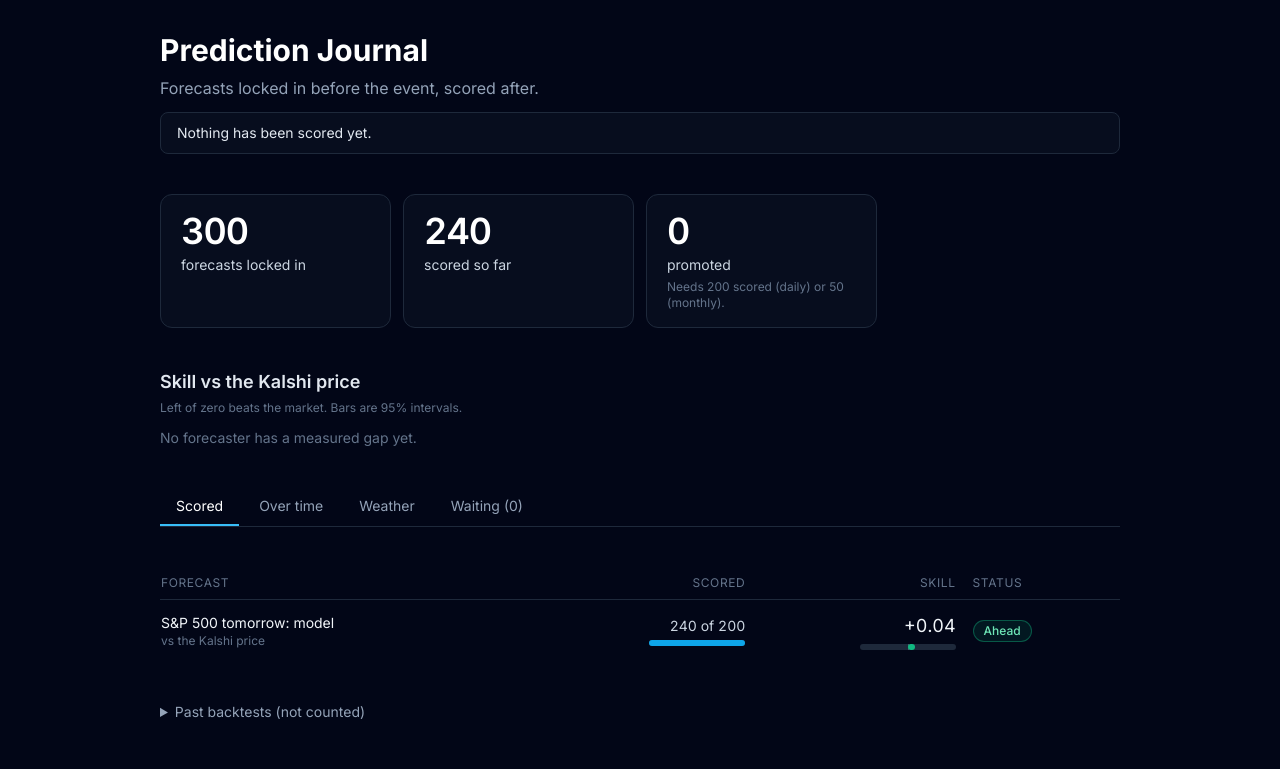
Test: calibration shows its reference points › draws the reliability curve with a 50% baseline marker
The width and height of the screenshot is (1280, 769).
Click the button "S&P 500 tomorrow: model" at point(248, 623), box 161,613 -> 334,633
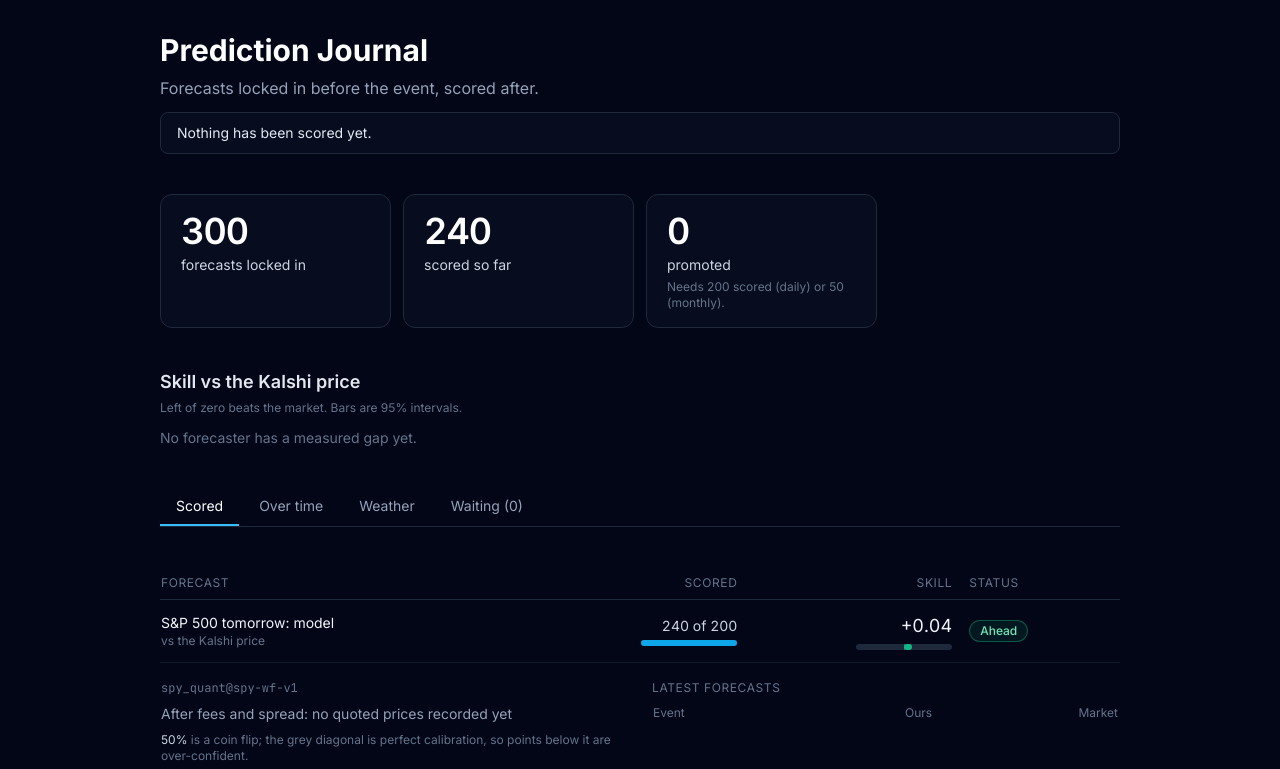
Check: the text "coin flip" shows "50%", box 161,732 -> 188,747
Check: the text "coin flip" shows "over-confident", box 161,732 -> 611,763
Check: the text "coin flip" shows "perfect calibration", box 161,732 -> 611,763
